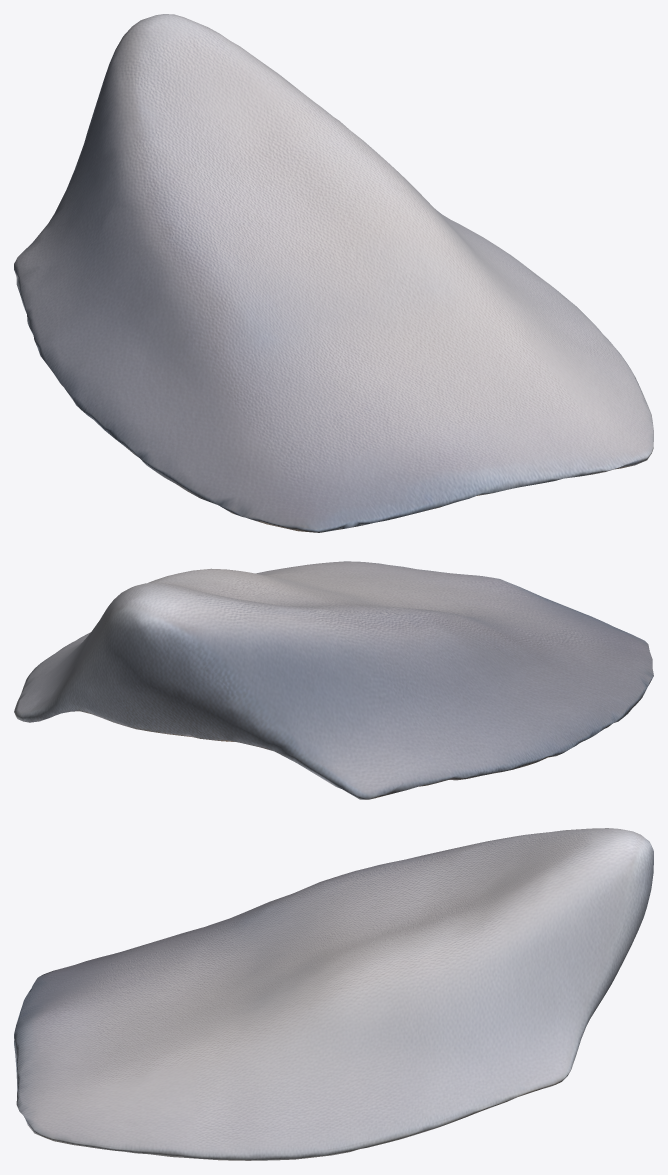
File: PR_SnowSoft_Drift.fbx
3 renders of one model, top to bottom at view 1: azimuth 30°, elevation 25°; view 2: azimuth 150°, elevation 25°; view 3: azimuth 270°, elevation 25°, orthographic. The views are drawn at different scales.
Visible parts, largest first — view 1: texture_mapping; view 2: texture_mapping; view 3: texture_mapping.
Boxes of the visible parts, x1=… form: texture_mapping: x1=14, y1=14, x2=653, y2=532; texture_mapping: x1=14, y1=561, x2=653, y2=799; texture_mapping: x1=14, y1=828, x2=653, y2=1160.
Size of the model in its own units: 0.8172 by 1 by 0.3907.
Materials: 1 (1 with a texture image).
